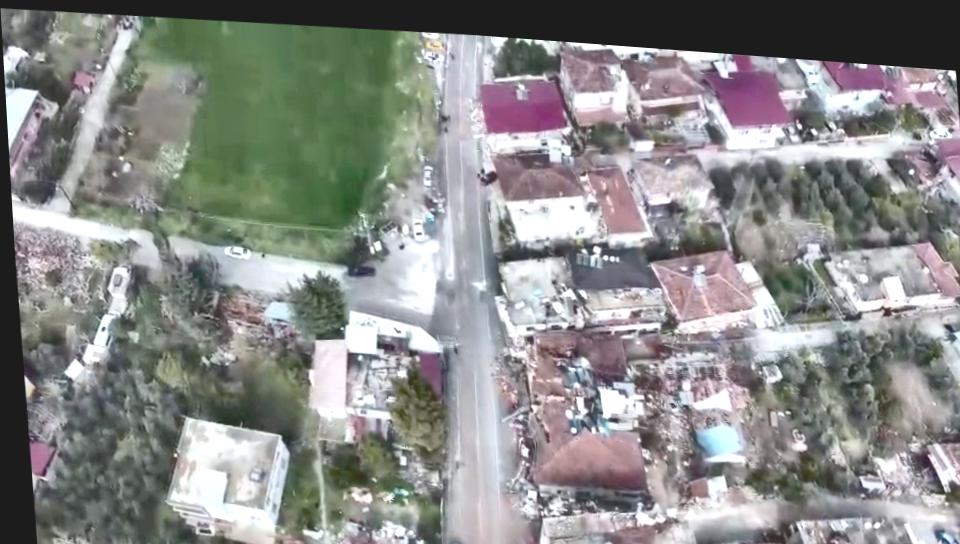kapali: (477, 326, 787, 384)
